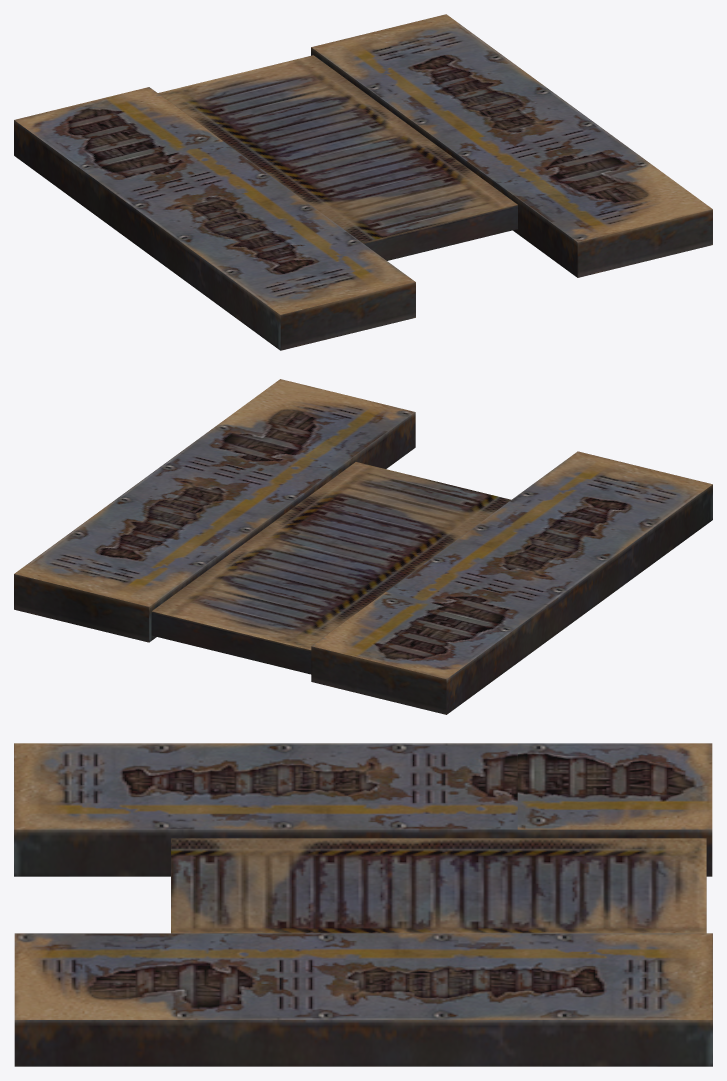
The model's file is leinabaobianyuan_louti.FBX.
The picture shows the model from 3 angles, top to bottom: view 1: azimuth 30°, elevation 25°; view 2: azimuth 150°, elevation 25°; view 3: azimuth 270°, elevation 25°; orthographic projection. The views are drawn at different scales.
Parts seen in each view (by area): view 1: leinabaobianyuan_louti; view 2: leinabaobianyuan_louti; view 3: leinabaobianyuan_louti.
Part boxes in pixels (bbox=[...]): leinabaobianyuan_louti: bbox=[14, 14, 712, 350]; leinabaobianyuan_louti: bbox=[14, 379, 712, 714]; leinabaobianyuan_louti: bbox=[14, 743, 712, 1066].
Size of the model in its own units: 236 by 18.61 by 252.
